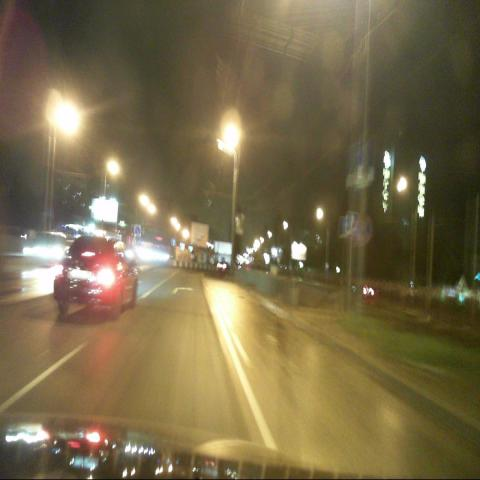6_6: (346, 212, 359, 236)
